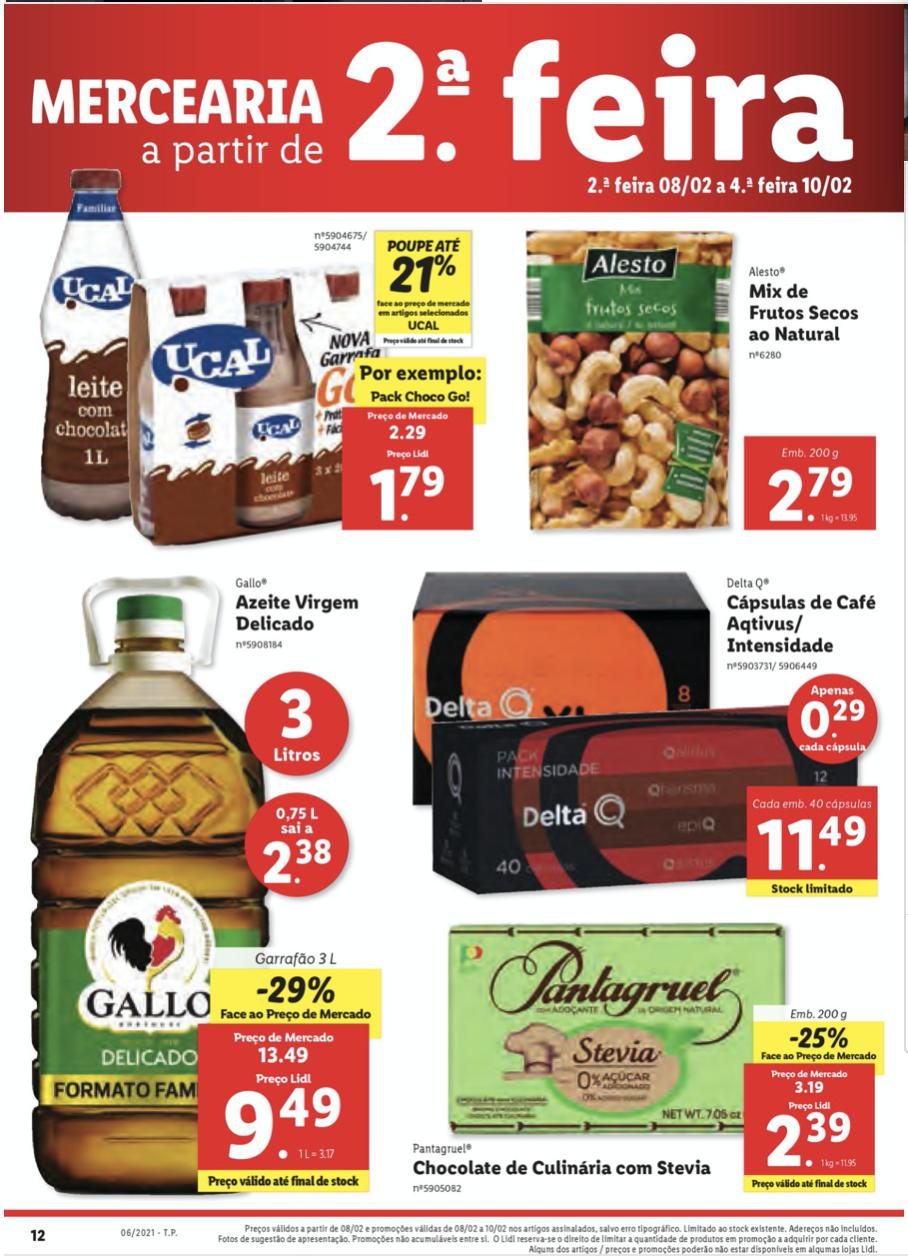name: (721, 586, 880, 657), (741, 274, 866, 346), (407, 1157, 716, 1182), (232, 591, 364, 632)
price: (222, 1082, 346, 1164), (758, 810, 871, 874), (760, 458, 858, 524), (764, 1107, 854, 1174), (363, 460, 446, 526)
product: (21, 558, 379, 1208), (400, 561, 883, 902), (30, 191, 494, 543), (396, 911, 893, 1199), (521, 222, 886, 550)
promotion: (385, 254, 457, 300), (250, 974, 338, 1008), (782, 1024, 854, 1058)
